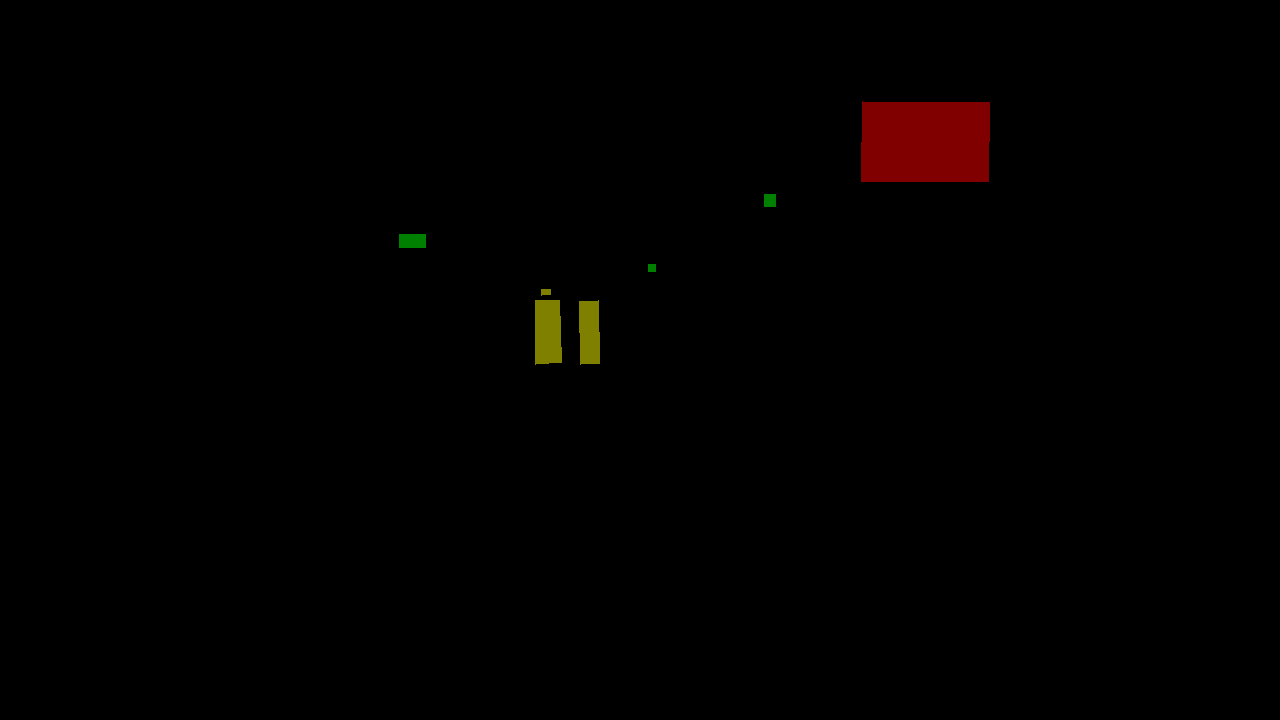door: (535, 300, 561, 364), (579, 300, 599, 364)
sign: (399, 234, 425, 247), (764, 194, 775, 206), (541, 289, 550, 295), (648, 264, 655, 271)
tvmonitor: (861, 101, 989, 181)
